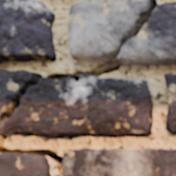brick: (0, 0, 55, 63), (63, 149, 175, 175), (165, 74, 175, 132)
broken_brick: (0, 75, 153, 138), (67, 0, 151, 62), (119, 4, 175, 66), (0, 68, 34, 109), (0, 154, 52, 175)
crack: (0, 0, 175, 175)
